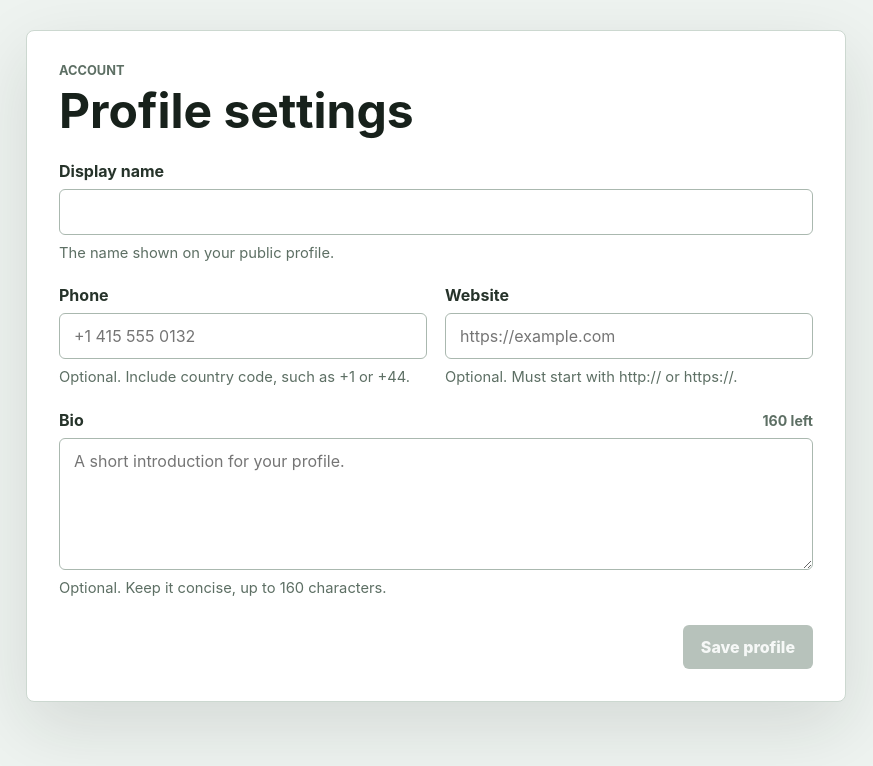
Scenario: Profile settings form › renders inline errors and clears the corresponding error when valid
Click the field labelled "Display name": (436, 212) [59,189,813,235]
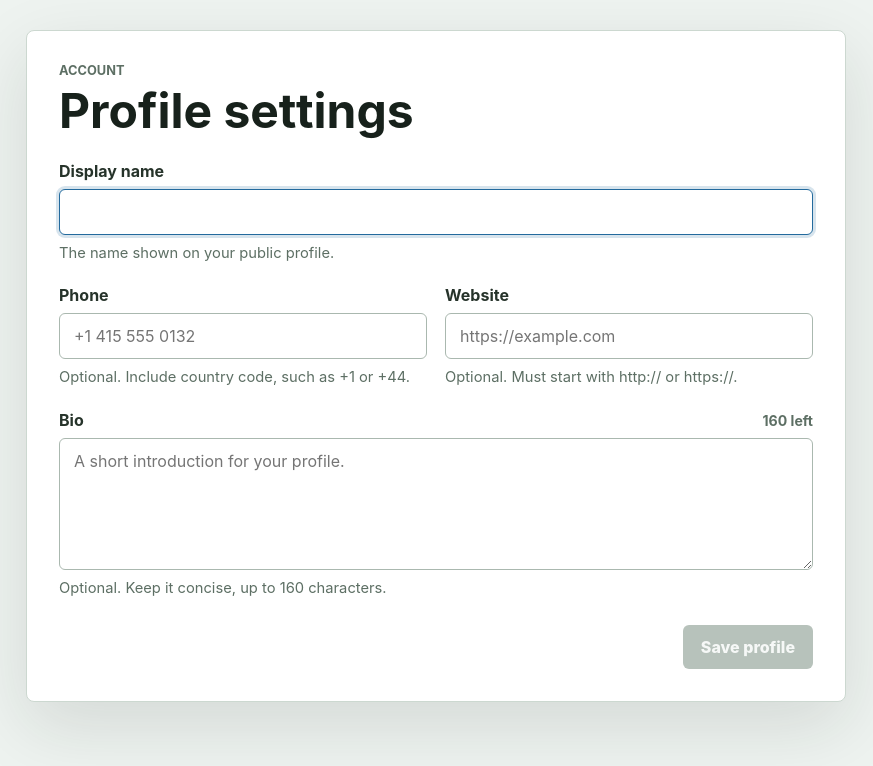
Press Tab
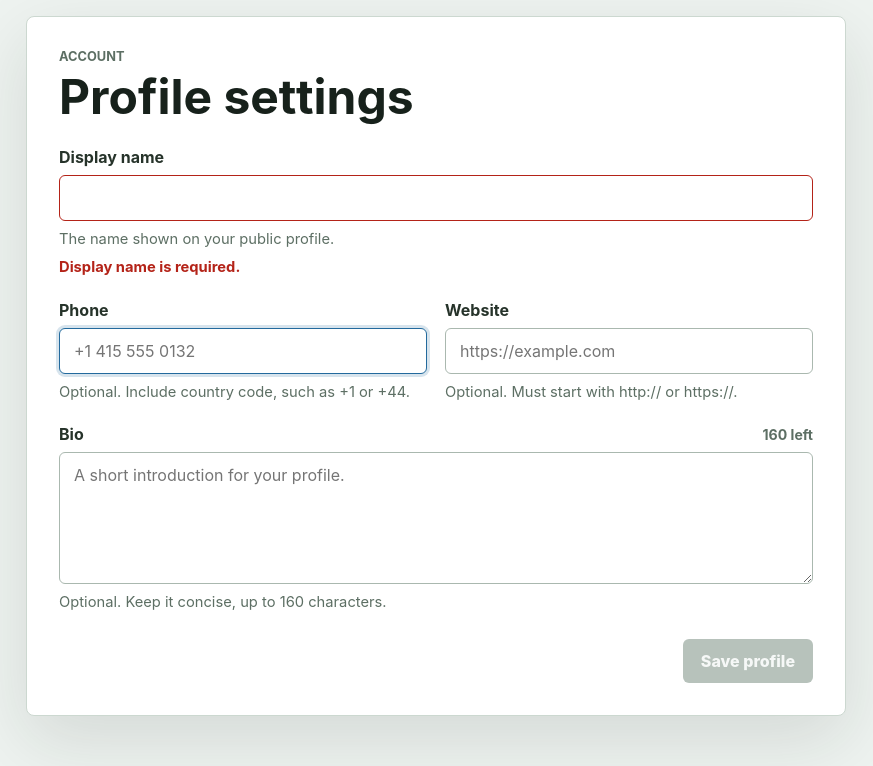
Expected: the text "Display name is required." is shown, [59,258,240,276]
In the field labelled "Display name": (436, 198) [59,174,813,220], type "Ada Lovelace"
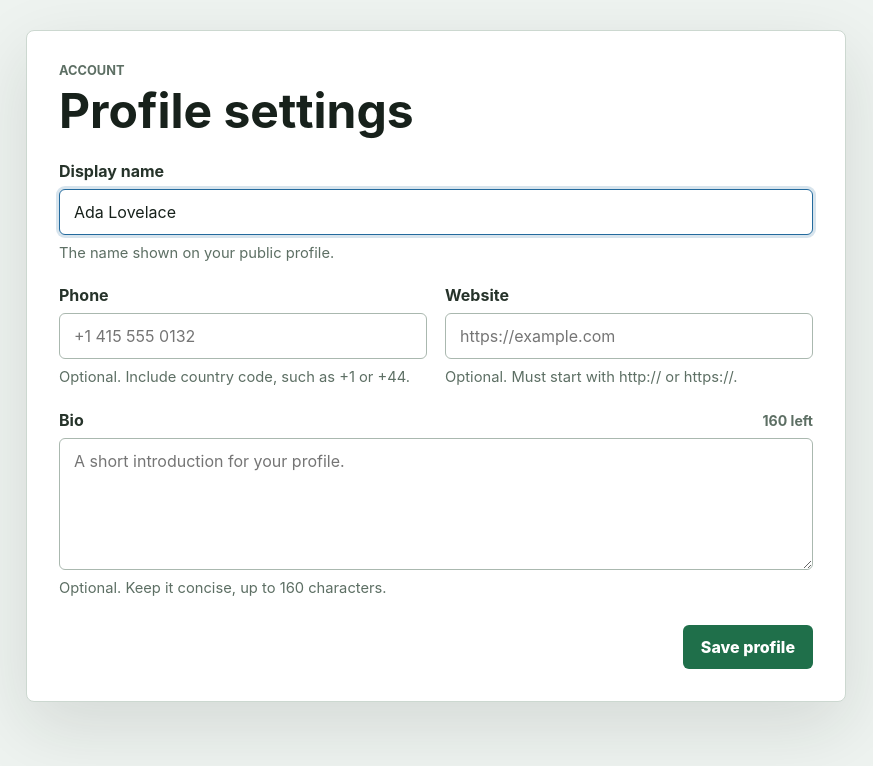
Expected: the text "Display name is required." is gone
